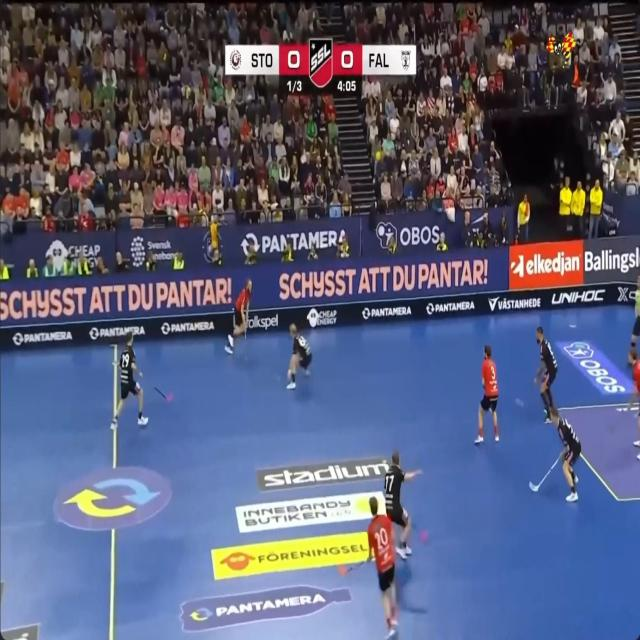player: (367, 496, 397, 637), (384, 450, 421, 558), (111, 331, 147, 428), (550, 407, 581, 502), (475, 345, 499, 444), (534, 326, 557, 422), (225, 279, 252, 354), (286, 323, 312, 389), (629, 276, 640, 364), (629, 346, 640, 407), (634, 406, 640, 447), (637, 453, 640, 459)
stick: (529, 458, 559, 491), (338, 561, 368, 575), (154, 387, 167, 399)
